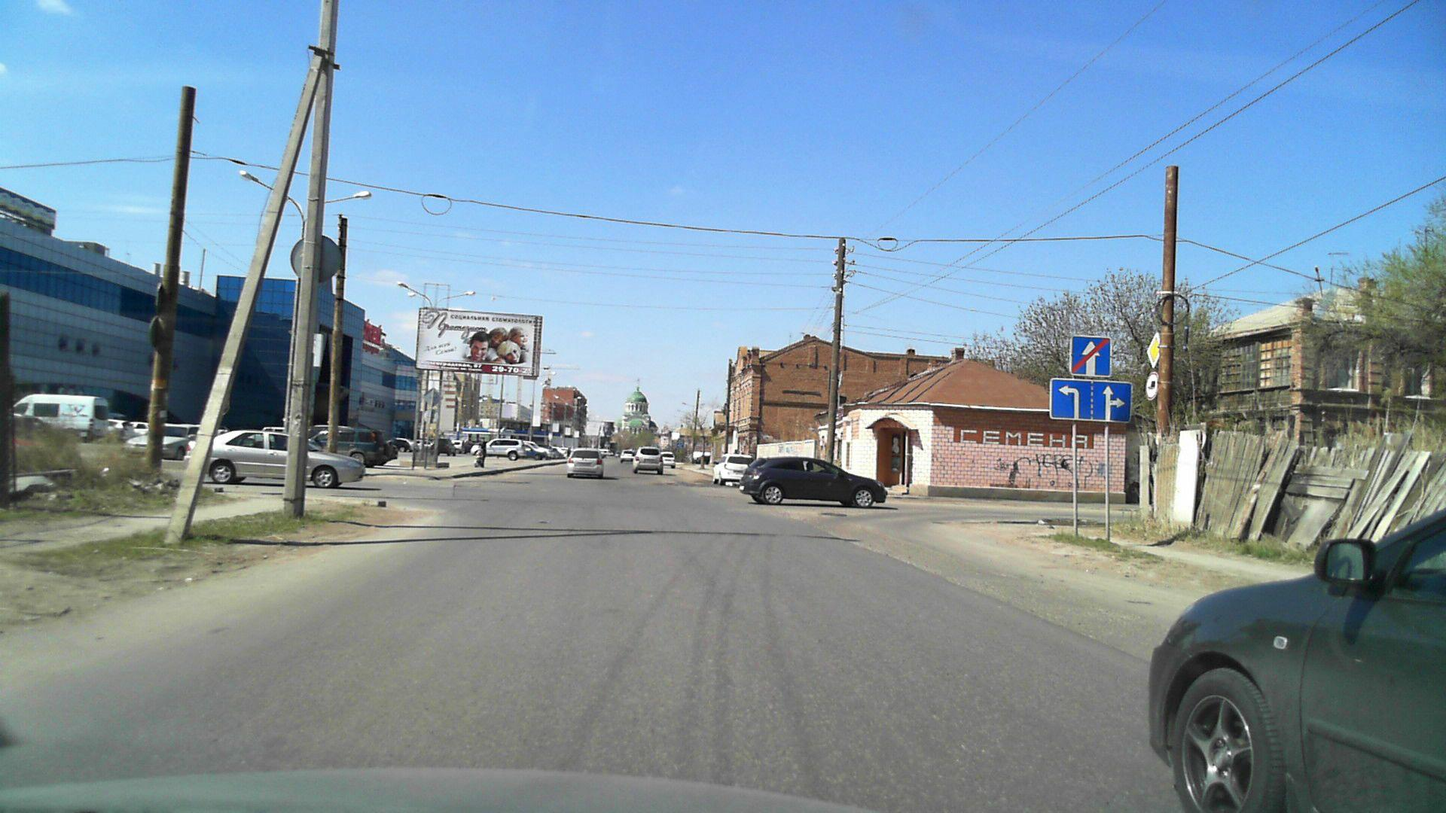obstructed_road_sign: (1146, 331, 1161, 369)
road_sign: (1049, 378, 1133, 424), (1069, 336, 1113, 375)
